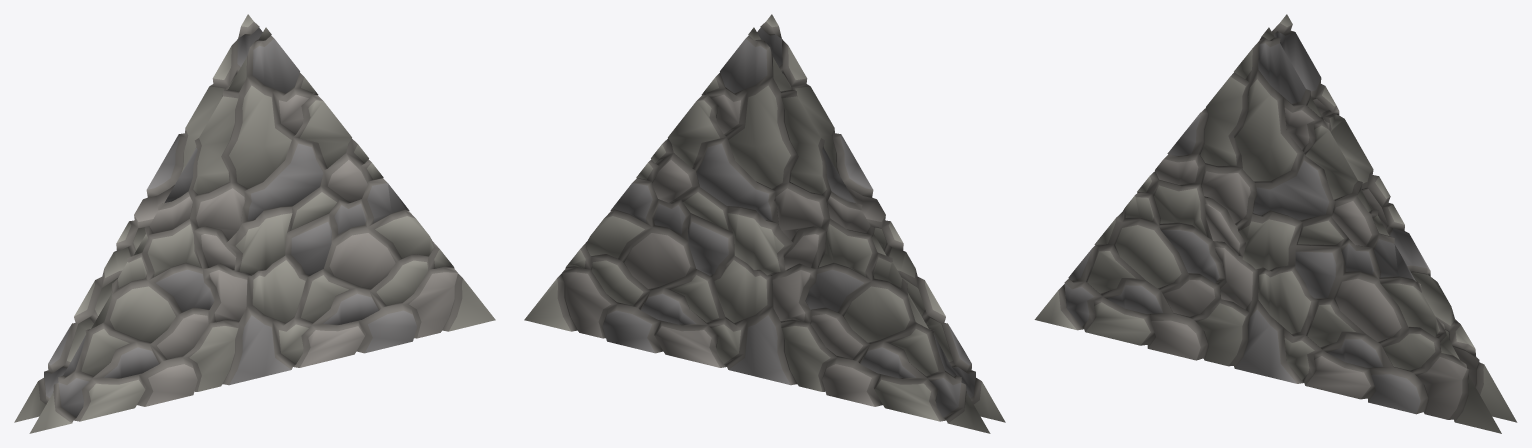
Rendered from rpgpp_ag_roof_end_01_6x5_wall_c.fbx.
The picture shows the model from 3 angles, left to right: view 1: azimuth 30°, elevation 25°; view 2: azimuth 150°, elevation 25°; view 3: azimuth 330°, elevation 25°; orthographic projection.
Parts seen in each view (by area): view 1: rpgpp_ag_roof_end_01_6x5_wall_c; view 2: rpgpp_ag_roof_end_01_6x5_wall_c; view 3: rpgpp_ag_roof_end_01_6x5_wall_c.
Boxes of the visible parts, x1=… form: rpgpp_ag_roof_end_01_6x5_wall_c: x1=14, y1=14, x2=495, y2=433; rpgpp_ag_roof_end_01_6x5_wall_c: x1=524, y1=14, x2=1005, y2=433; rpgpp_ag_roof_end_01_6x5_wall_c: x1=1034, y1=14, x2=1517, y2=433.
Size of the model in its own units: 6.38 by 4.58 by 0.4229.
